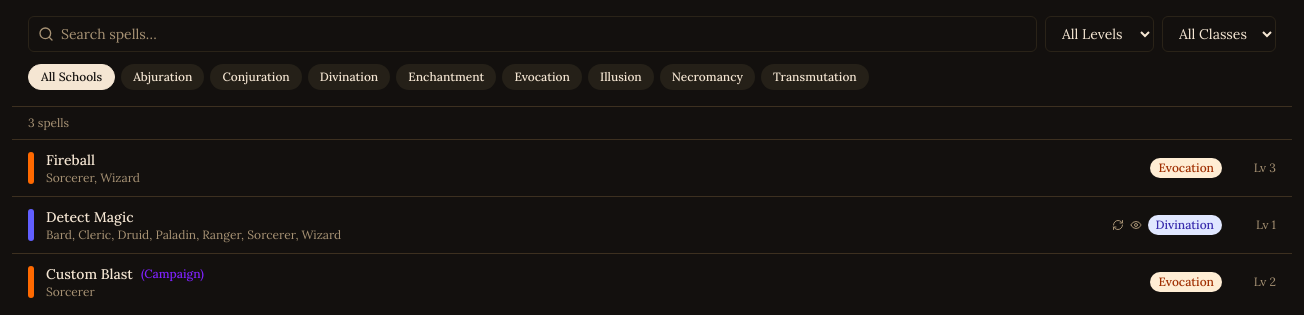
Scenario: SpellsTab › filters spells by level
expect the text "Fireball" is shown: met, box x1=46 y1=150 x2=95 y2=170
Select "3rd Level" in the dropdown with test id "level-filter" at (1100, 34), box x1=1045 y1=16 x2=1154 y2=52
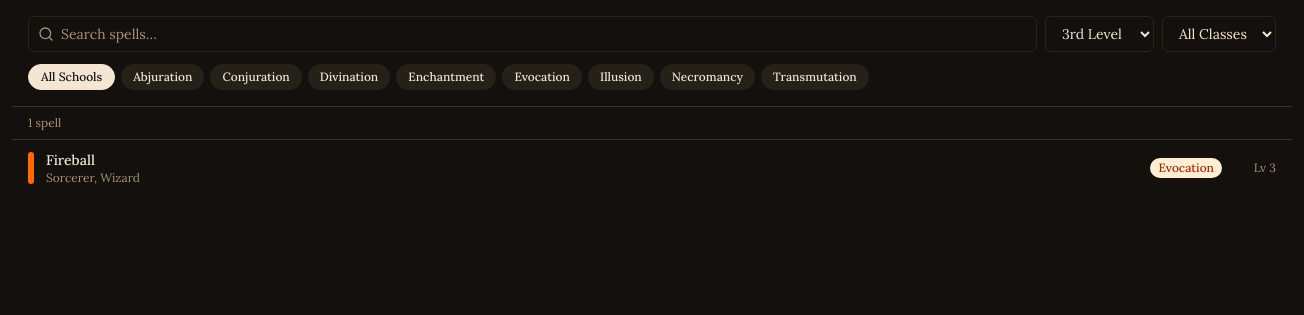
expect the text "Fireball" is shown: met, box x1=46 y1=150 x2=95 y2=170
expect the button "Detect Magic" is gone: met
